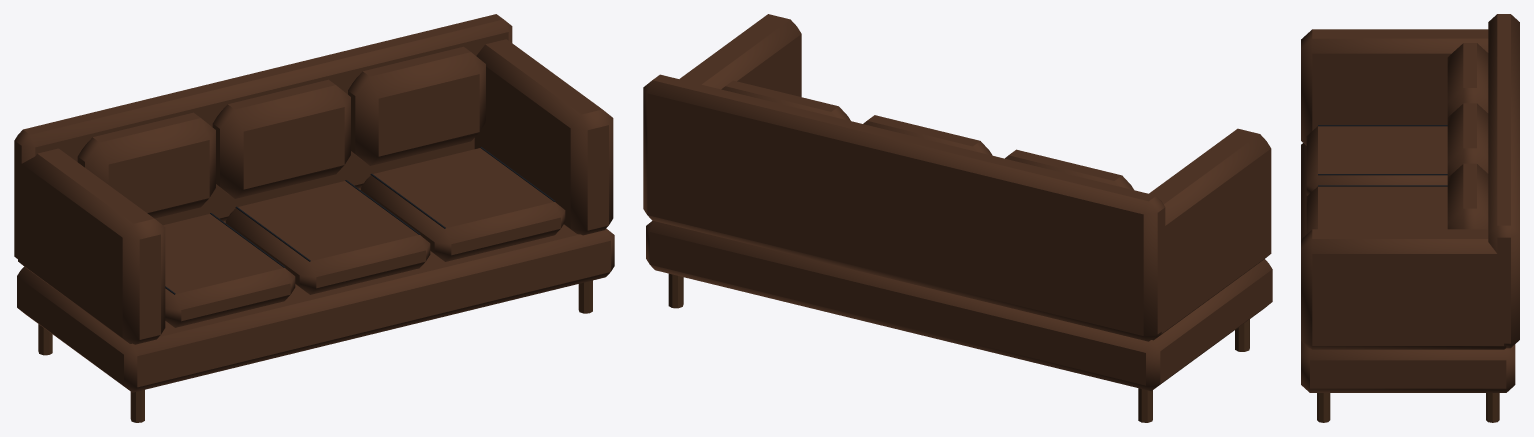
The model's file is couch_three_seater_sofa.glb.
The picture shows the model from 3 angles, left to right: view 1: azimuth 30°, elevation 25°; view 2: azimuth 150°, elevation 25°; view 3: azimuth 270°, elevation 25°; orthographic projection. The views are drawn at different scales.
Parts seen in each view (by area): view 1: couch_three_seater_sofa; view 2: couch_three_seater_sofa; view 3: couch_three_seater_sofa.
Part boxes in pixels (x1,y1,x2,y2): couch_three_seater_sofa: (14,14,614,422); couch_three_seater_sofa: (643,14,1272,422); couch_three_seater_sofa: (1301,14,1519,422).
Bounding box in the file's own units: 2.3 × 0.98 × 0.97.
